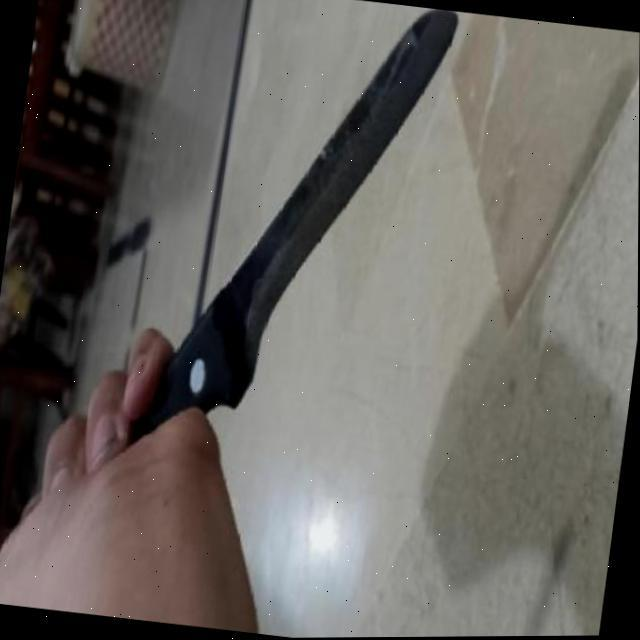knife: (131, 0, 457, 479)
